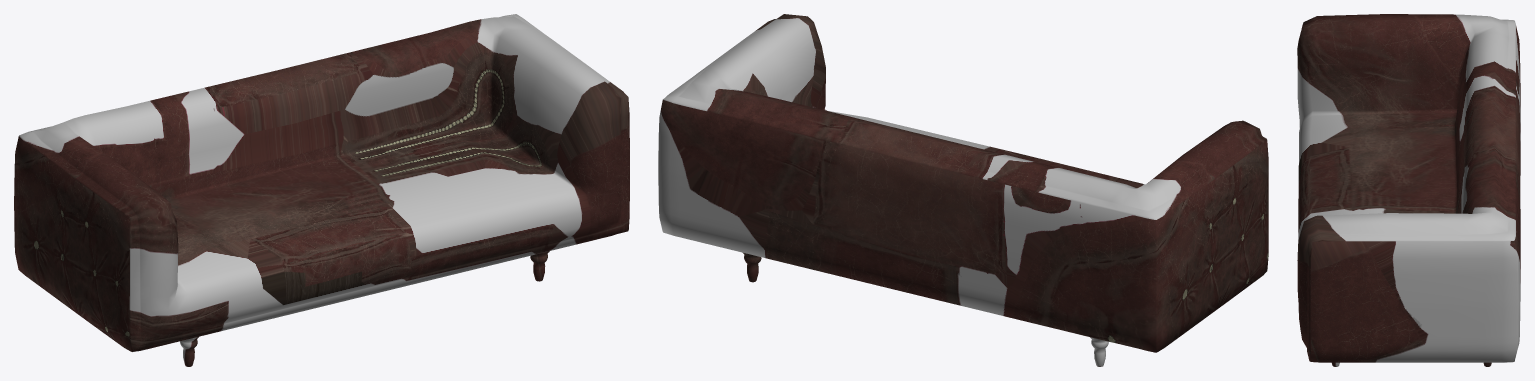
File: Sofa.fbx
3 views of the same model, side by side, from view 1: azimuth 30°, elevation 25°; view 2: azimuth 150°, elevation 25°; view 3: azimuth 270°, elevation 25° (orthographic). The views are drawn at different scales.
Visible parts, largest first — view 1: Sofa; view 2: Sofa; view 3: Sofa.
Boxes of the visible parts, x1,y1,x2,y2 form: Sofa: (14,14,629,366); Sofa: (658,14,1268,366); Sofa: (1297,14,1520,366).
Bounding box in the file's own units: 219 × 78.1 × 91.79.
